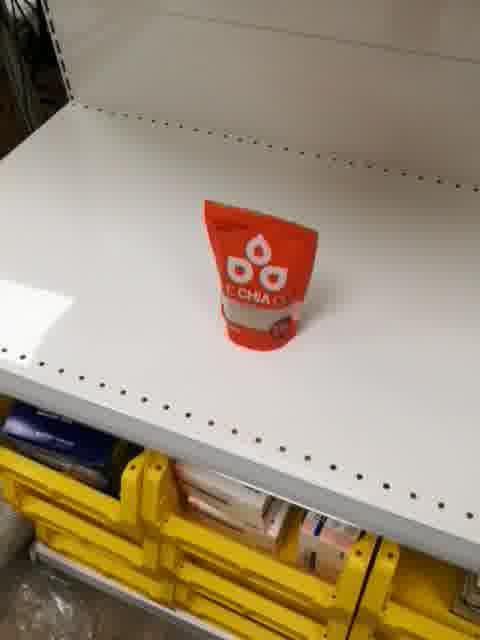whitechia: (202, 197, 321, 354)
